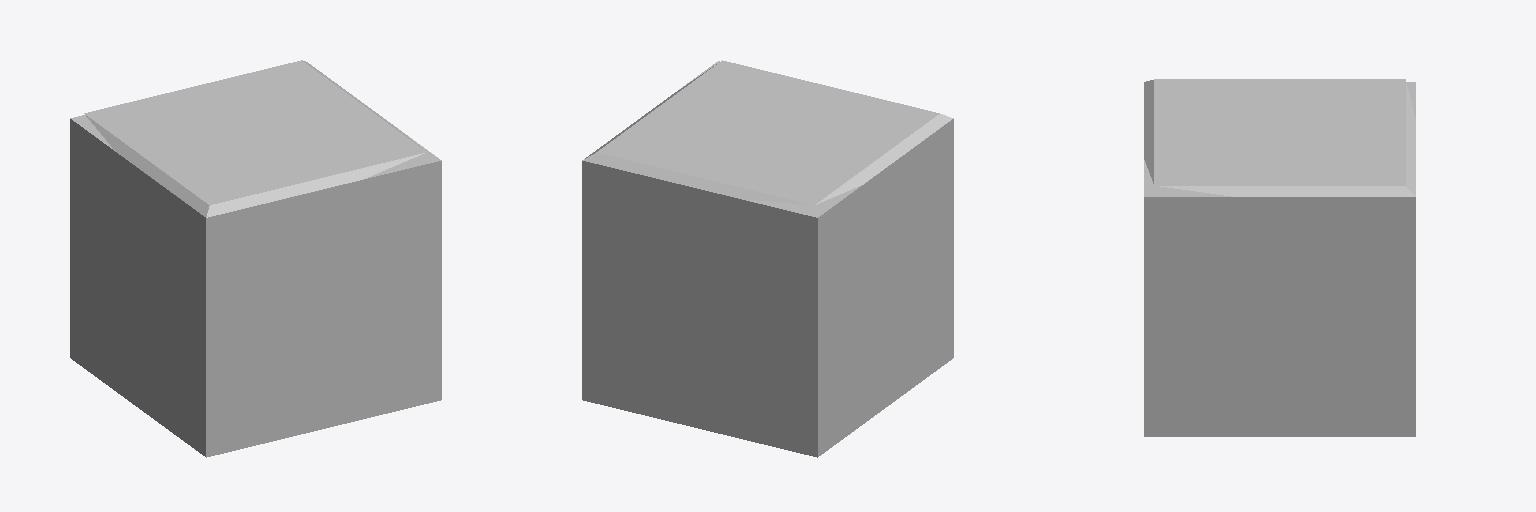
Rendered from roundedcube.obj.
3 views of the same model, side by side, from view 1: azimuth 30°, elevation 25°; view 2: azimuth 150°, elevation 25°; view 3: azimuth 270°, elevation 25° (orthographic).
Visible parts, largest first — view 1: Cube; view 2: Cube; view 3: Cube.
Part boxes in pixels (left/top/right/bottom): Cube: left=70, top=60, right=441, bottom=457; Cube: left=582, top=60, right=953, bottom=457; Cube: left=1144, top=79, right=1415, bottom=436.
Bounding box in the file's own units: 2 × 2 × 2.